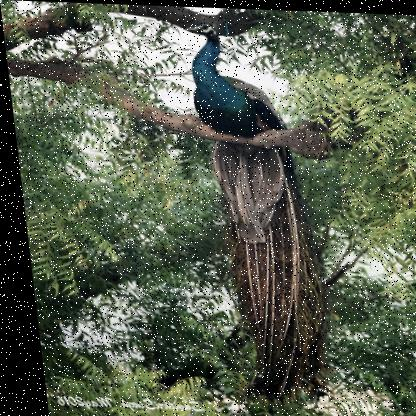Burung: (184, 14, 328, 400)
